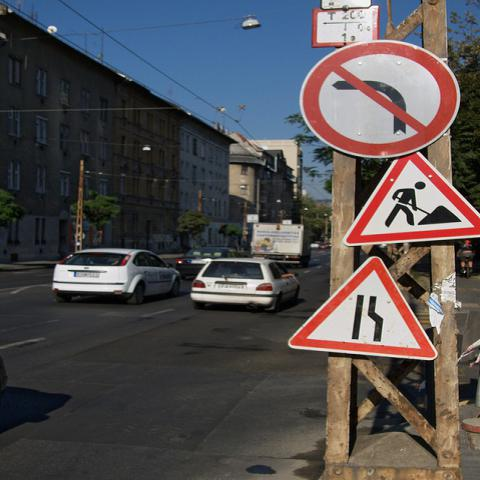car: (52, 248, 181, 304), (184, 256, 304, 312), (175, 247, 241, 280), (311, 241, 322, 248), (319, 242, 329, 249)
truck: (251, 222, 311, 267)
